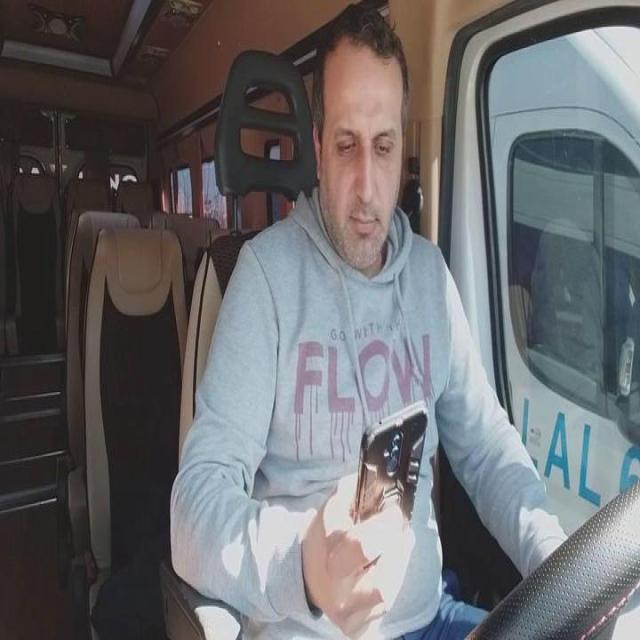phone: (351, 401, 430, 536)
